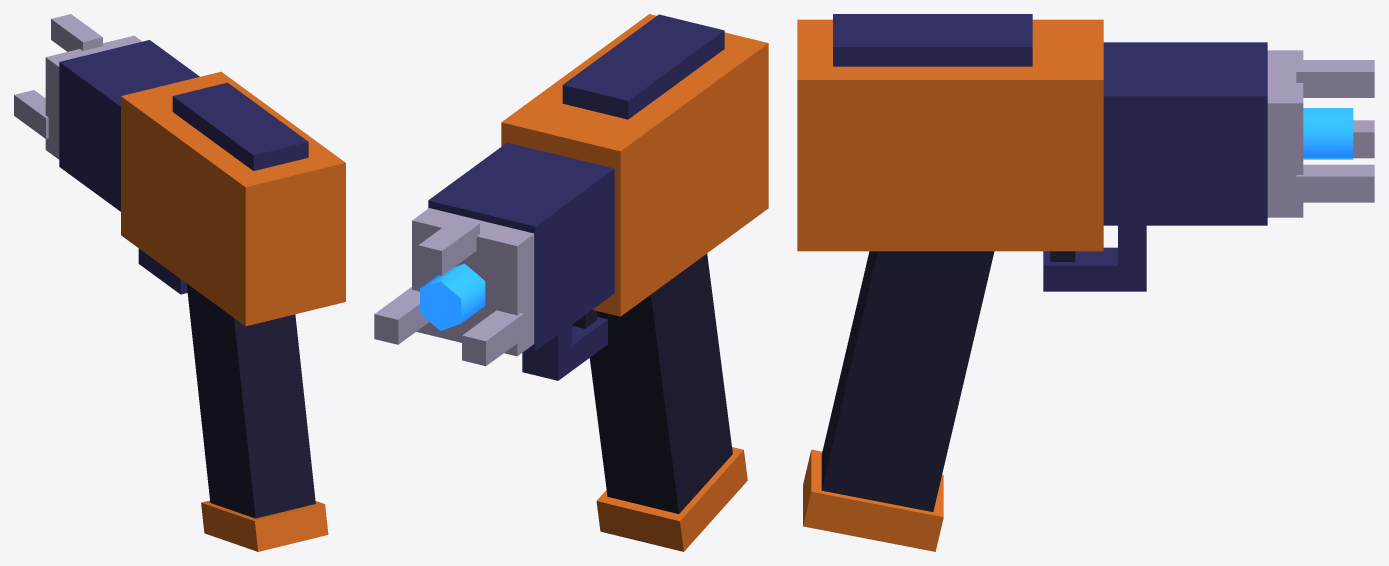
Rendered from repair_tool.lod1.glb.
3 renders of one model, left to right at view 1: azimuth 30°, elevation 25°; view 2: azimuth 150°, elevation 25°; view 3: azimuth 270°, elevation 25°, orthographic. The views are drawn at different scales.
Visible parts, largest first — view 1: item.repair_tool.body, part.emitter; view 2: item.repair_tool.body, part.emitter; view 3: item.repair_tool.body, part.emitter.
Part boxes in pixels (x1=…): item.repair_tool.body: x1=59, y1=40, x2=345, y2=551; part.emitter: x1=14, y1=14, x2=141, y2=159; item.repair_tool.body: x1=428, y1=14, x2=768, y2=551; part.emitter: x1=374, y1=208, x2=534, y2=366; item.repair_tool.body: x1=797, y1=14, x2=1267, y2=551; part.emitter: x1=1267, y1=50, x2=1374, y2=217.
Bounding box in the file's own units: 0.125 × 0.484 × 0.5063.
